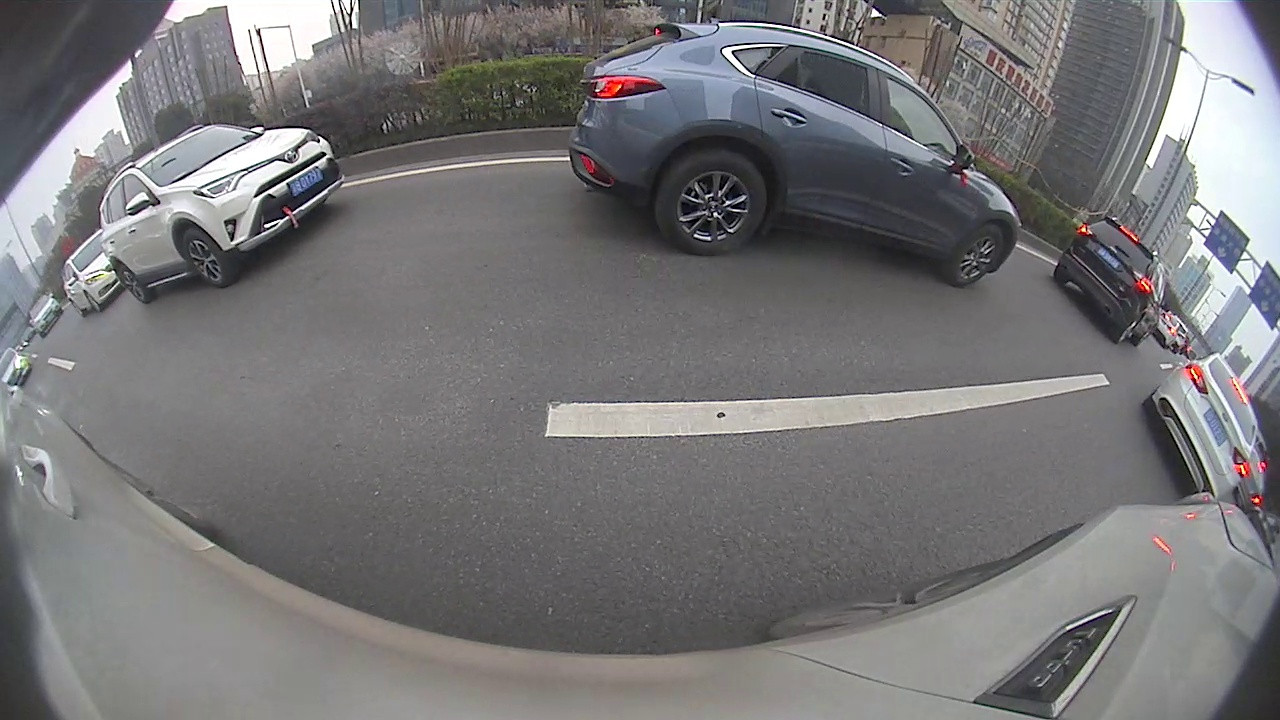car: (563, 22, 1023, 291), (99, 123, 348, 305), (1140, 353, 1262, 500), (1052, 213, 1173, 348), (60, 228, 126, 318), (24, 293, 65, 338), (0, 347, 33, 391)
front: (950, 230, 1006, 285), (182, 227, 226, 287)
rear: (659, 151, 767, 257), (117, 268, 142, 300)
